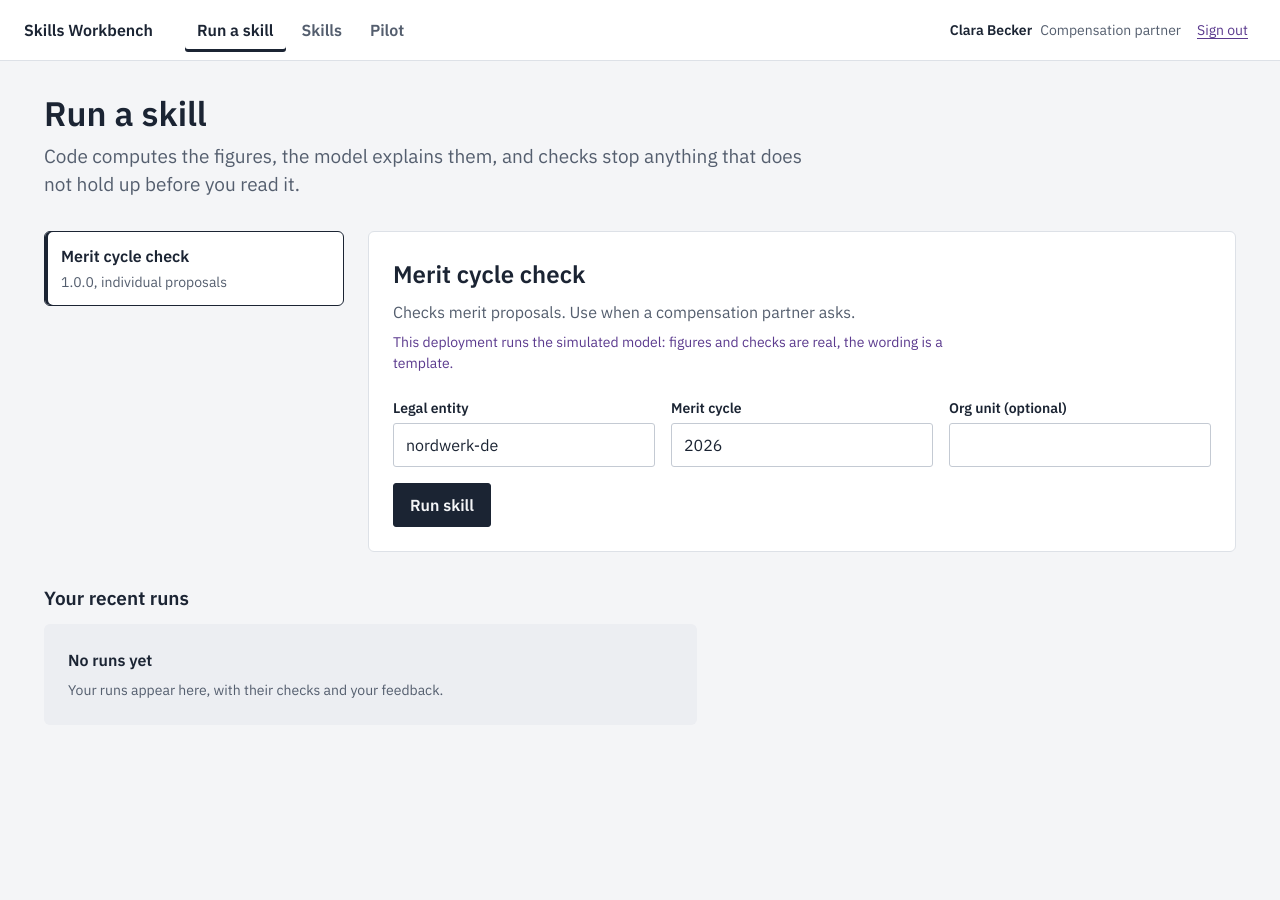
Test case: running a skill › builds the form from the skill's inputs, requires what is required, and starts the run
Expected: the text "runs the simulated model" is shown, [393, 333, 943, 372]
Clear the field named "Merit cycle (required)": x=802, y=445 [671, 423, 933, 467]
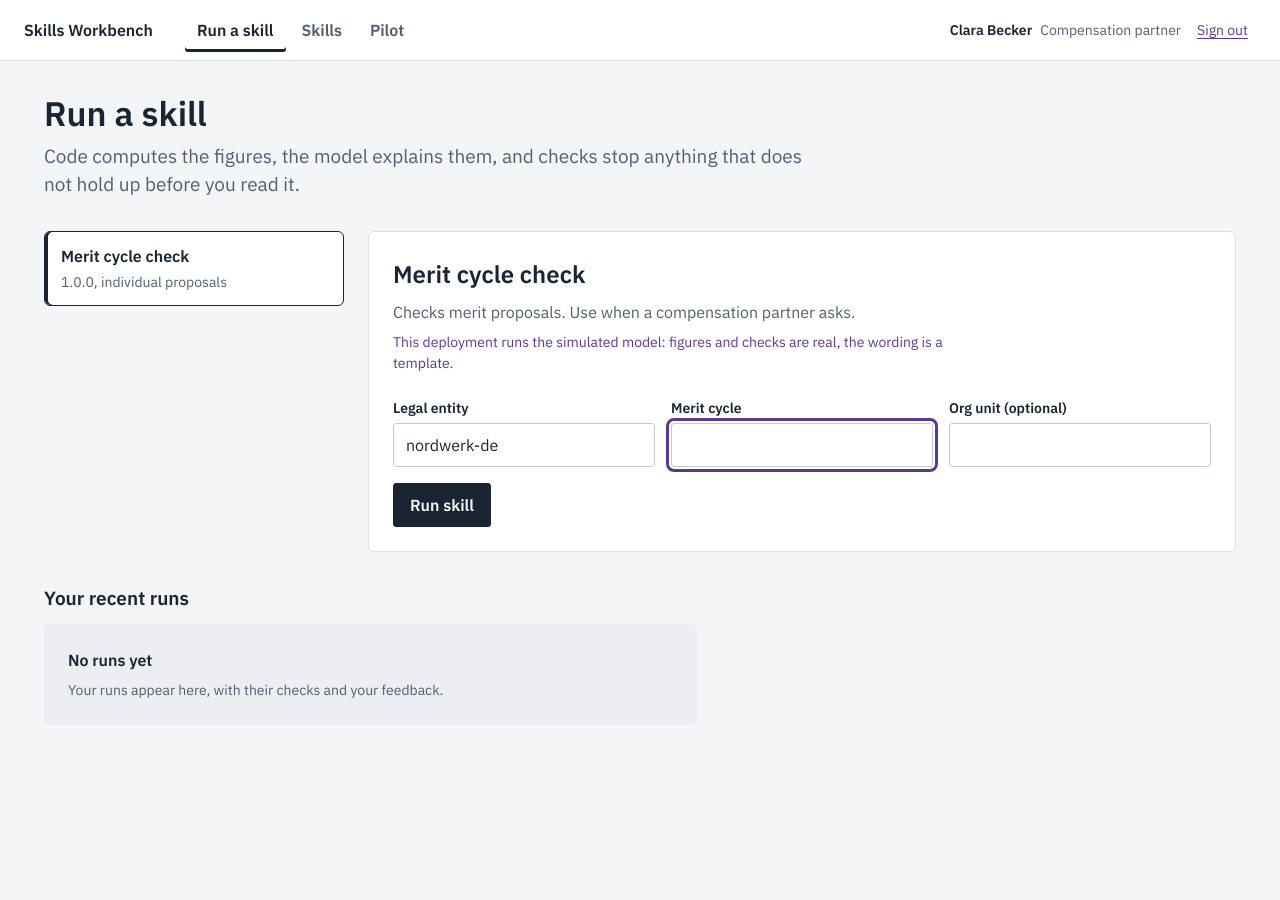
Click the button "Run skill": x=442, y=505 [393, 483, 491, 527]
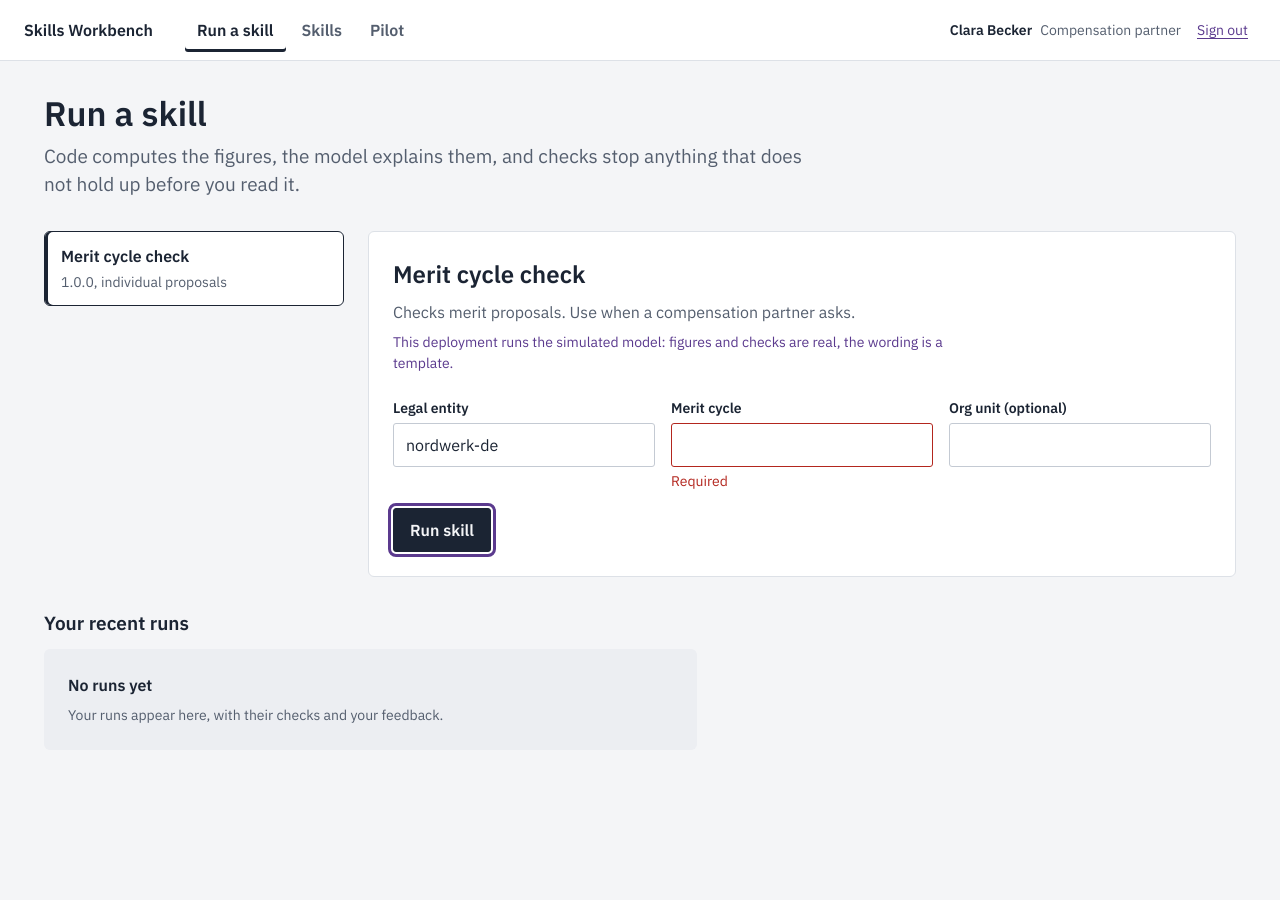
Now the text "Required" is shown, box [671, 472, 728, 490]
In the field named "Merit cycle (required)": x=802, y=445 [671, 423, 933, 467], type "2026"
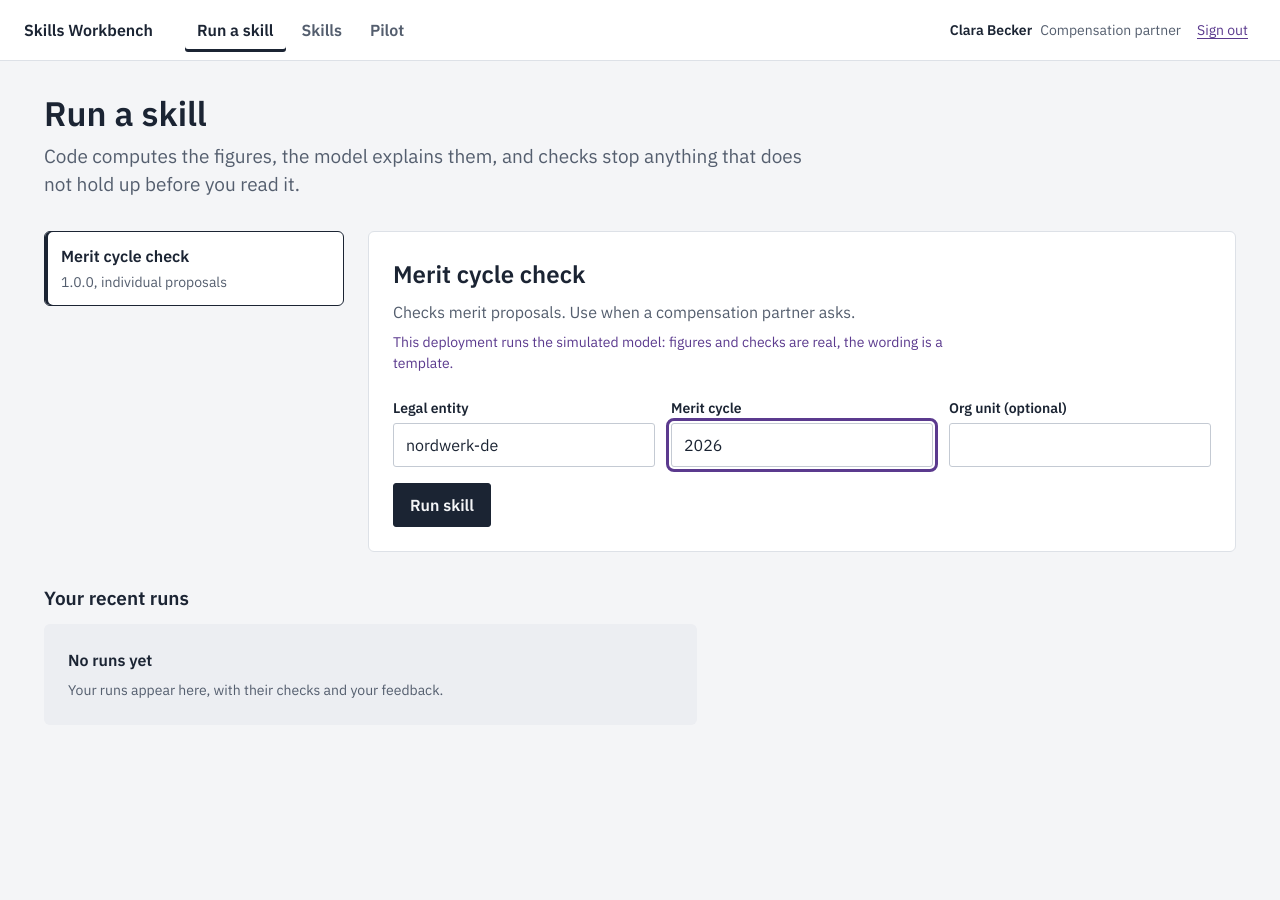
In the field labelled "Org unit (optional)": x=1080, y=445 [949, 423, 1211, 467], type "DE-OPS-2"
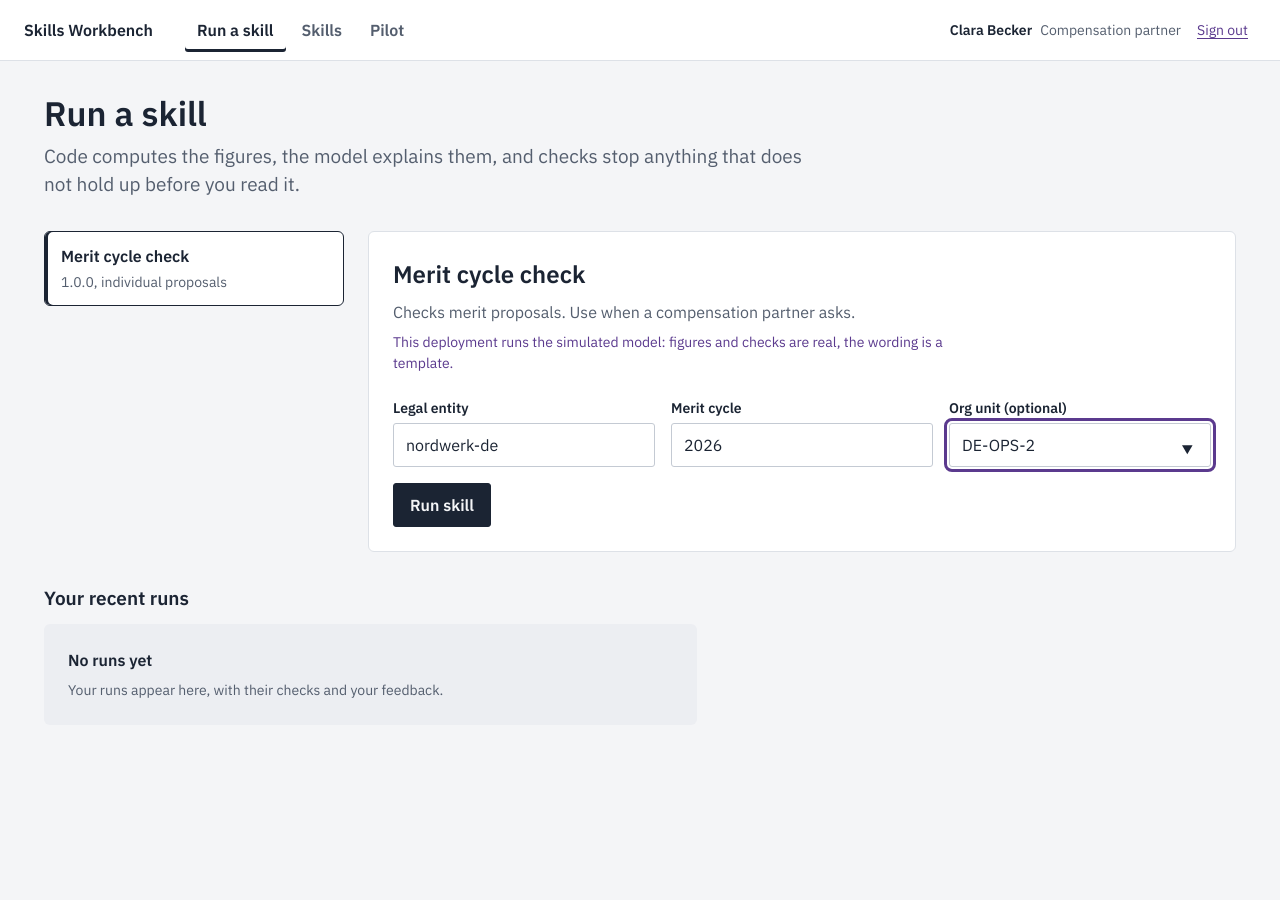
Click the button "Run skill": x=442, y=505 [393, 483, 491, 527]
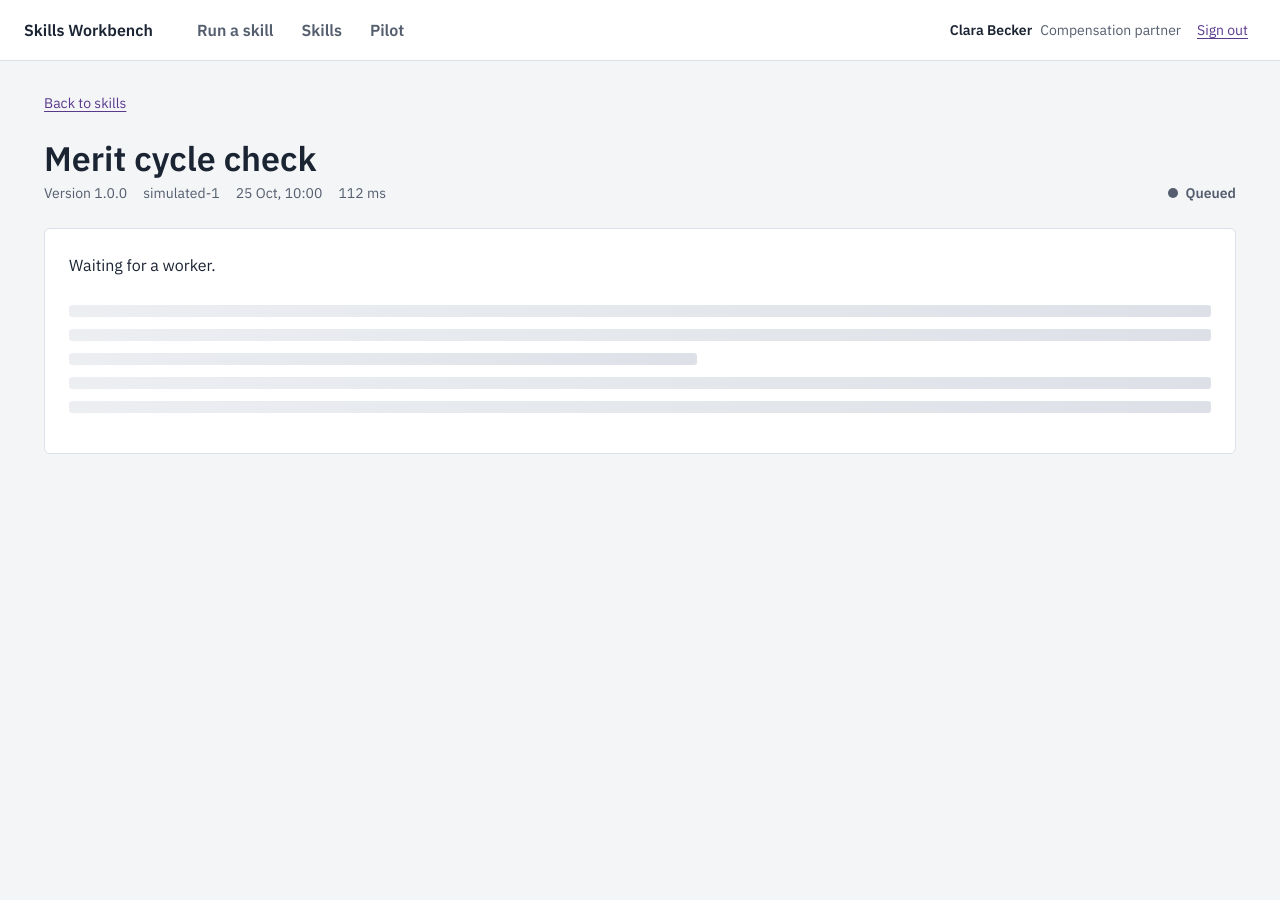
Now the text "Waiting for a worker." is shown, box [69, 255, 216, 275]
